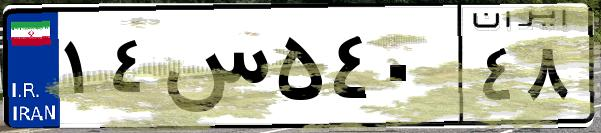0: (385, 28, 445, 110)
1: (57, 26, 110, 100)
4: (330, 28, 385, 110), (475, 38, 525, 113), (110, 28, 158, 98)
5: (270, 28, 330, 110)
8: (525, 38, 570, 115)
س: (158, 20, 270, 120)
